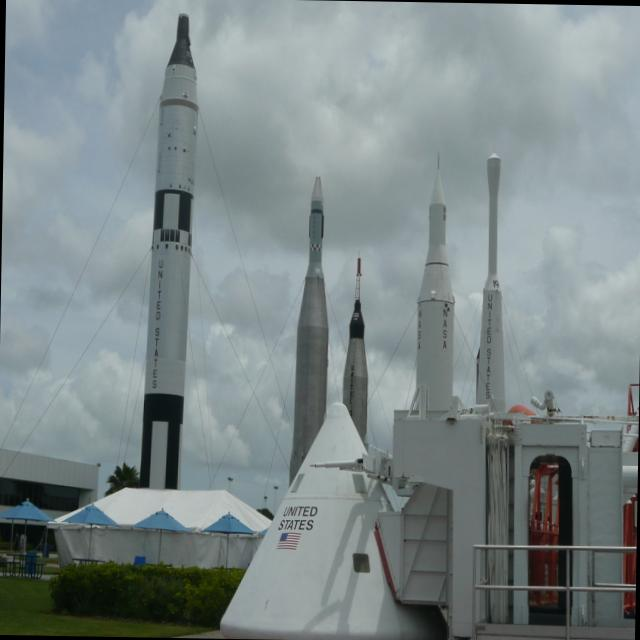rocket: (121, 5, 204, 500), (290, 175, 326, 529)
